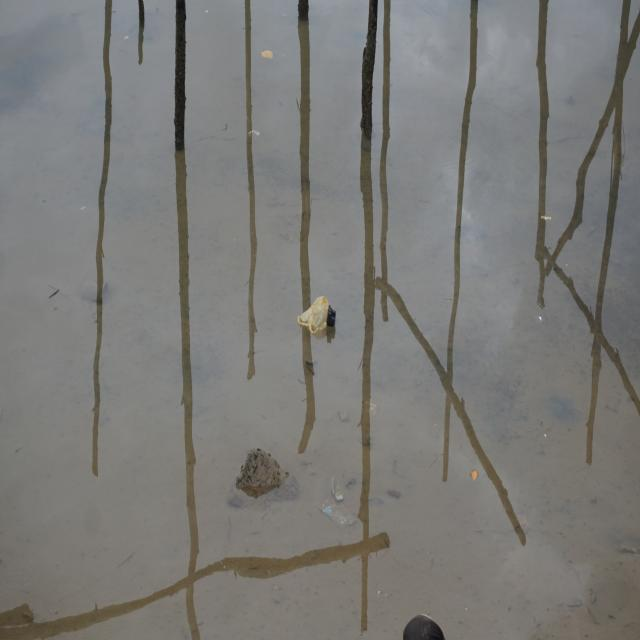Kantong Plastik: (296, 290, 333, 343)
